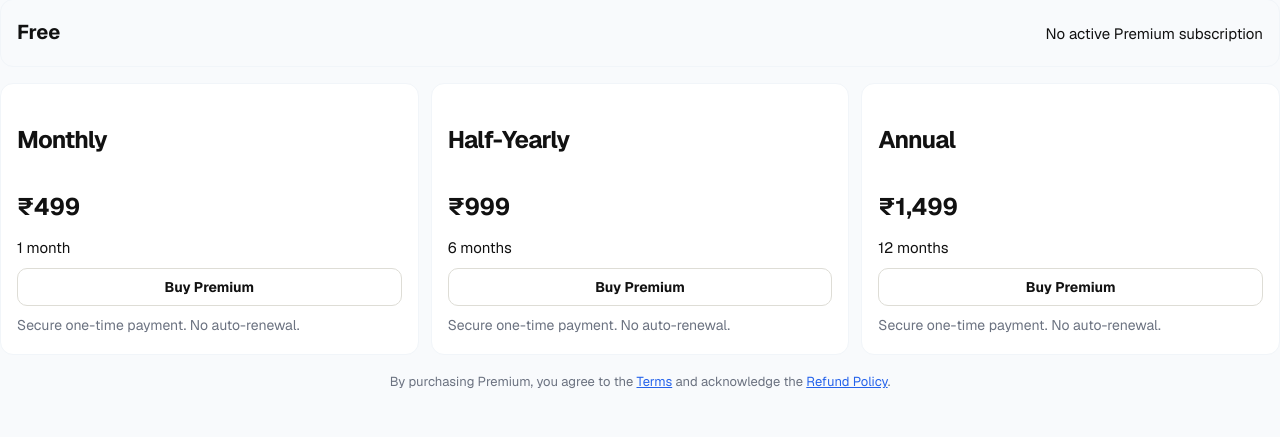
M4.2 subscription plan actions › opens one production checkout and waits for verified CAPTURED state before showing Premium
Click the button "Buy Premium" below "1 month" at point(209, 287), box 17,268 -> 402,306
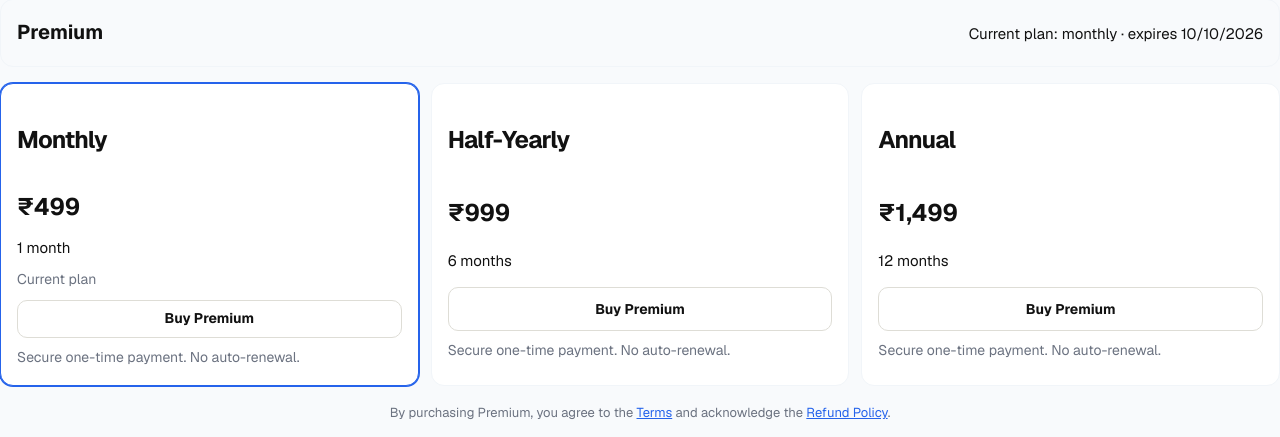
Result: the text "Premium" is shown at 17,16 -> 103,50
